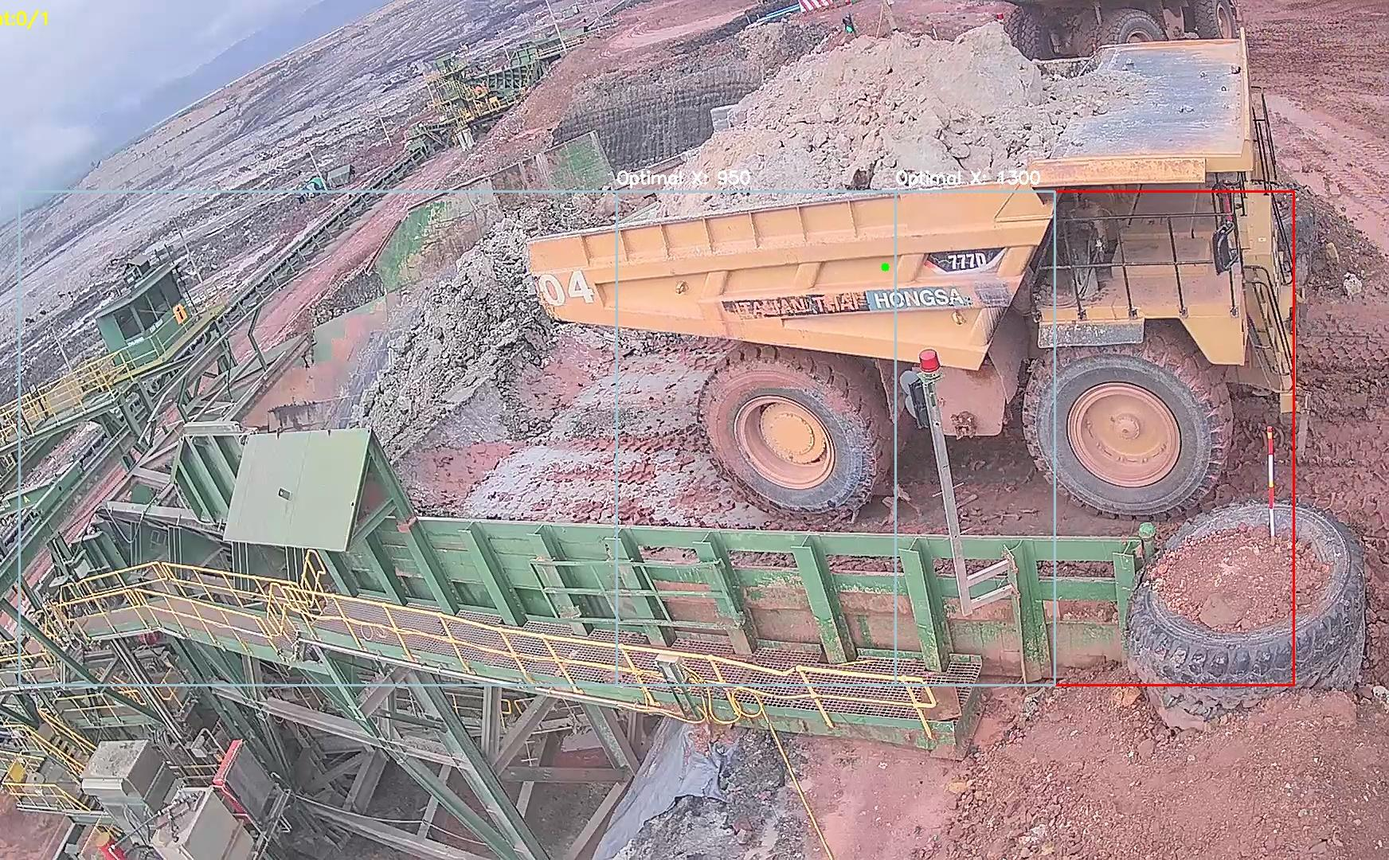company: (719, 282, 985, 324)
full_load: (660, 30, 1048, 209)
mining_truck: (522, 17, 1321, 527)
tail_number: (530, 265, 602, 316)
truck_size: (927, 239, 1000, 274)
